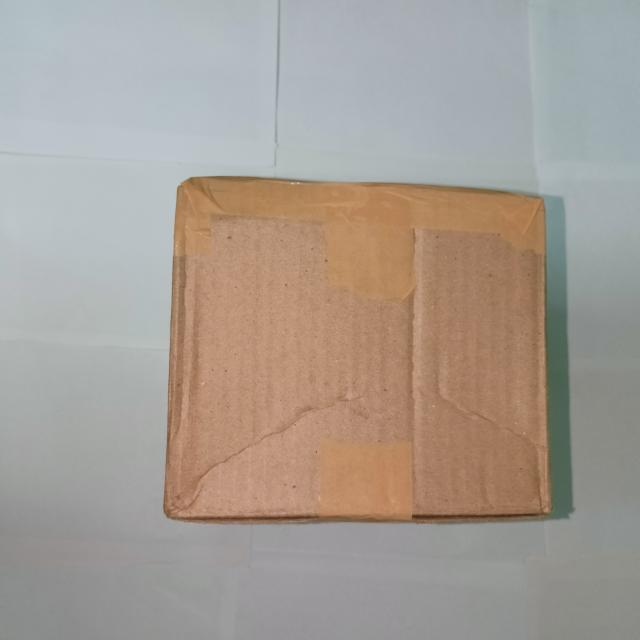box: (166, 182, 553, 520)
